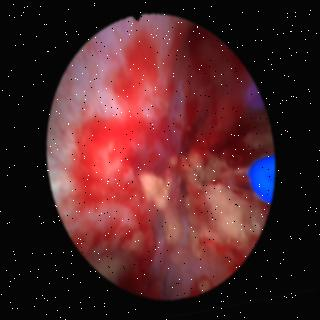fiber: (250, 158, 274, 201)
stone: (180, 152, 264, 255), (140, 173, 181, 244)
tissue: (51, 16, 268, 294)
